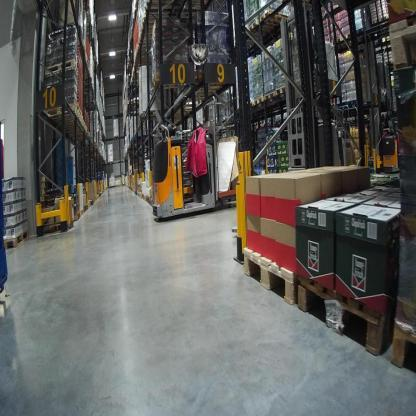pallets: (241, 249, 389, 356), (32, 191, 104, 241), (248, 81, 302, 113), (2, 230, 28, 250)
